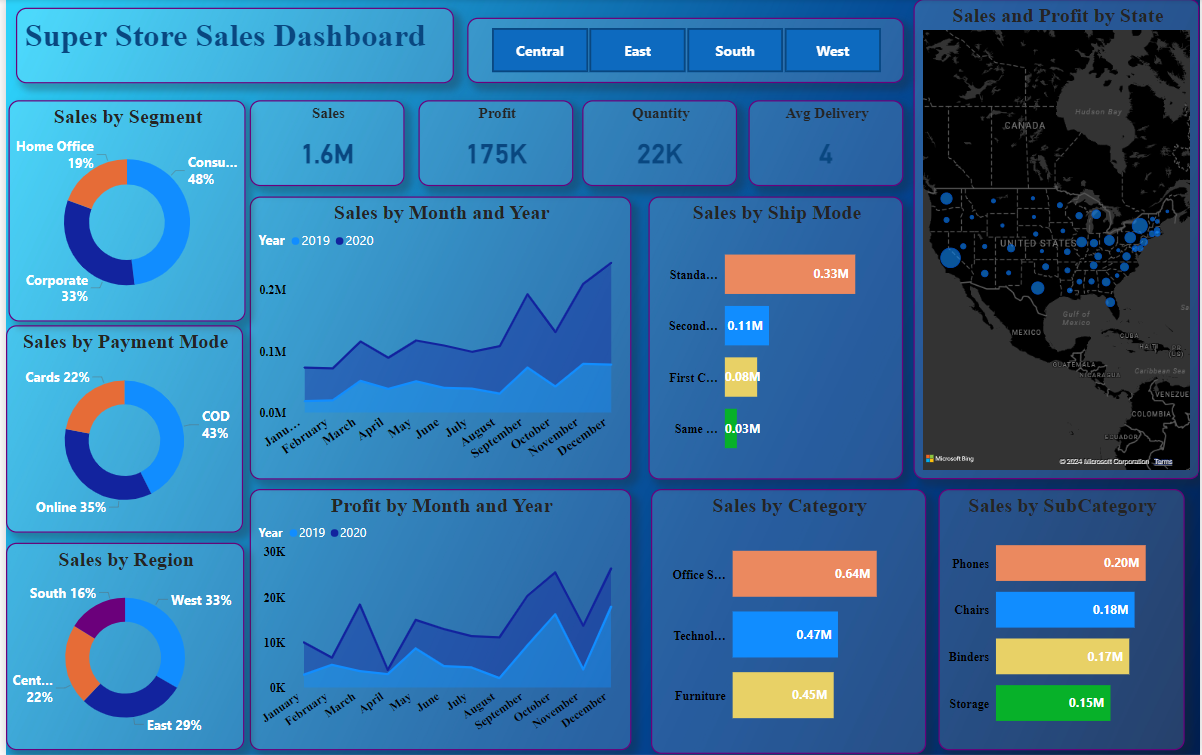

The page's visual inventory and layout, read from the dashboard file:
{"tool":"powerbi","page":{"name":"Dashboard","canvas":[1580,1000],"ordinal":0},"visuals":[{"type":"clusteredBarChart","title":" Sales by Category","fields":{"Category":["SuperStore_Sales_Dataset.Category"],"Y":["Sum(SuperStore_Sales_Dataset.Sales)"]},"box":[853.7,648.7,364.2,350.6],"z":0},{"type":"clusteredBarChart","title":" Sales by SubCategory","fields":{"Y":["Sum(SuperStore_Sales_Dataset.Sales)"],"Category":["SuperStore_Sales_Dataset.Sub-Category"]},"box":[1233.1,648.7,325.2,345.5],"z":1000},{"type":"clusteredBarChart","title":" Sales by Ship Mode","fields":{"Y":["Sum(SuperStore_Sales_Dataset.Sales)"],"Category":["SuperStore_Sales_Dataset.Ship Mode"]},"box":[850.3,260.8,337.1,374.3],"z":2000},{"type":"stackedAreaChart","title":" Sales by Month and Year","fields":{"Y":["Sum(SuperStore_Sales_Dataset.Sales)"],"Category":["SuperStore_Sales_Dataset.Order Date.Variation.Date Hierarchy.Month","SuperStore_Sales_Dataset.Order Date.Variation.Date Hierarchy.Day"],"Series":["SuperStore_Sales_Dataset.Order Date.Variation.Date Hierarchy.Year"]},"box":[321.8,260.8,504.8,374.3],"z":3000},{"type":"stackedAreaChart","title":"Profit by Month and Year","fields":{"Category":["SuperStore_Sales_Dataset.Order Date.Variation.Date Hierarchy.Month","SuperStore_Sales_Dataset.Order Date.Variation.Date Hierarchy.Day"],"Series":["SuperStore_Sales_Dataset.Order Date.Variation.Date Hierarchy.Year"],"Y":["Sum(SuperStore_Sales_Dataset.Profit)"]},"box":[321.8,648.7,504.8,345.5],"z":4000},{"type":"map","title":"Sales and Profit by State","fields":{"Category":["SuperStore_Sales_Dataset.State"],"Size":["Sum(SuperStore_Sales_Dataset.Sales)"]},"box":[1200.9,0,379.4,635.2],"z":5000},{"type":"donutChart","title":"Sales by Segment","fields":{"Category":["SuperStore_Sales_Dataset.Segment"],"Y":["Sum(SuperStore_Sales_Dataset.Sales)"]},"box":[3.4,133.8,313.4,293],"z":6000},{"type":"donutChart","title":" Sales by Region","fields":{"Y":["Sum(SuperStore_Sales_Dataset.Sales)"],"Category":["SuperStore_Sales_Dataset.Region"]},"box":[0,719.9,315.1,274.4],"z":7000},{"type":"donutChart","title":" Sales by Payment Mode","fields":{"Y":["Sum(SuperStore_Sales_Dataset.Sales)"],"Category":["SuperStore_Sales_Dataset.Payment Mode"]},"box":[0,431.9,313.4,274.4],"z":8000},{"type":"slicer","fields":{"Values":["SuperStore_Sales_Dataset.Region"]},"box":[609.8,25.4,577.6,86.4],"z":9000},{"type":"textbox","box":[13.6,11.9,579.3,99.9],"z":10000},{"type":"card","title":"Sales","fields":{"Values":["Sum(SuperStore_Sales_Dataset.Sales)"]},"box":[321.8,133.8,205,113.5],"z":11000},{"type":"card","title":"Profit","fields":{"Values":["Sum(SuperStore_Sales_Dataset.Profit)"]},"box":[545.4,133.8,205,113.5],"z":12000},{"type":"card","title":"Quantity","fields":{"Values":["Sum(SuperStore_Sales_Dataset.Quantity)"]},"box":[762.2,133.8,205,113.5],"z":13000},{"type":"card","title":"Avg Delivery","fields":{"Values":["Avg(SuperStore_Sales_Dataset.AvgDelivery)"]},"box":[982.4,133.8,205,113.5],"z":14000}]}

Visuals, with their boxes in screenshot pixels (x1, y1, x2, y2), scaled from the page's 1580x1000 canvas onto the 1202x755 screenshot:
" Sales by Category" clusteredBarChart: x1=649 y1=490 x2=927 y2=754
" Sales by SubCategory" clusteredBarChart: x1=938 y1=490 x2=1185 y2=751
" Sales by Ship Mode" clusteredBarChart: x1=647 y1=197 x2=903 y2=480
" Sales by Month and Year" stackedAreaChart: x1=245 y1=197 x2=629 y2=480
"Profit by Month and Year" stackedAreaChart: x1=245 y1=490 x2=629 y2=751
"Sales and Profit by State" map: x1=914 y1=0 x2=1201 y2=480
"Sales by Segment" donutChart: x1=3 y1=101 x2=241 y2=322
" Sales by Region" donutChart: x1=0 y1=544 x2=240 y2=751
" Sales by Payment Mode" donutChart: x1=0 y1=326 x2=238 y2=533
slicer - SuperStore_Sales_Dataset.Region: x1=464 y1=19 x2=903 y2=84
textbox: x1=10 y1=9 x2=451 y2=84
"Sales" card: x1=245 y1=101 x2=401 y2=187
"Profit" card: x1=415 y1=101 x2=571 y2=187
"Quantity" card: x1=580 y1=101 x2=736 y2=187
"Avg Delivery" card: x1=747 y1=101 x2=903 y2=187
